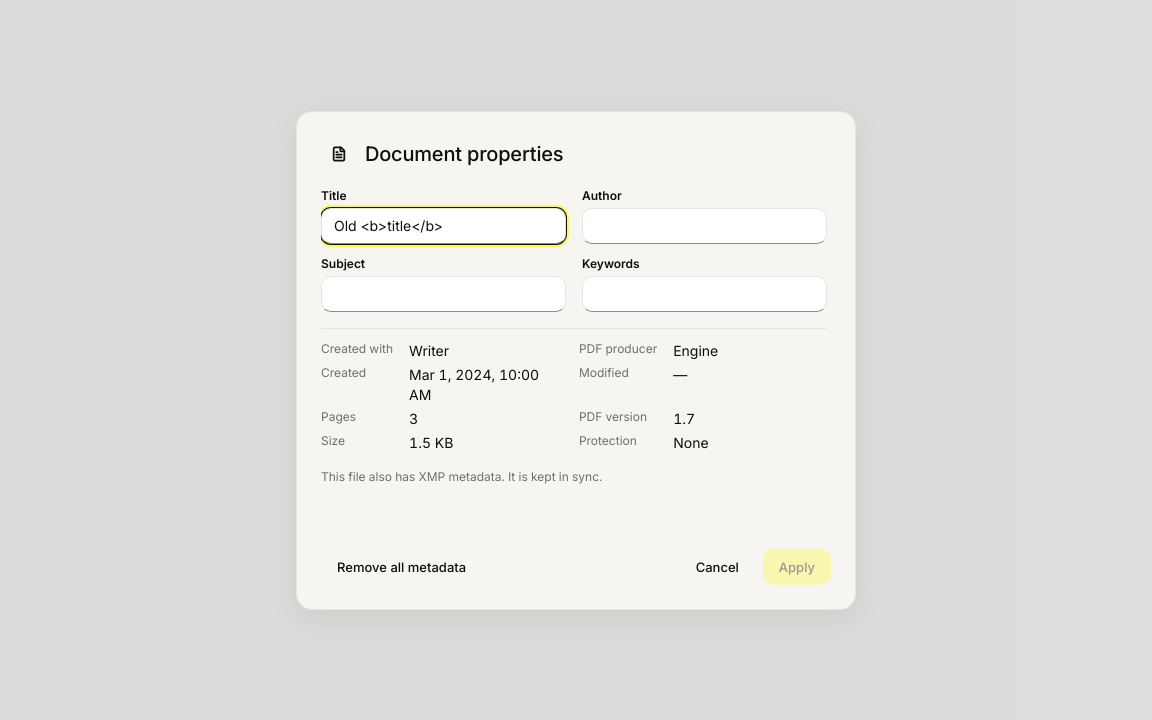
Test: the Document properties dialog › discards on Esc
Expected: the field labelled "Title" is not empty, [321,208,566,244]
Click the button "Remove all metadata": (402, 566) [321,548,482,584]
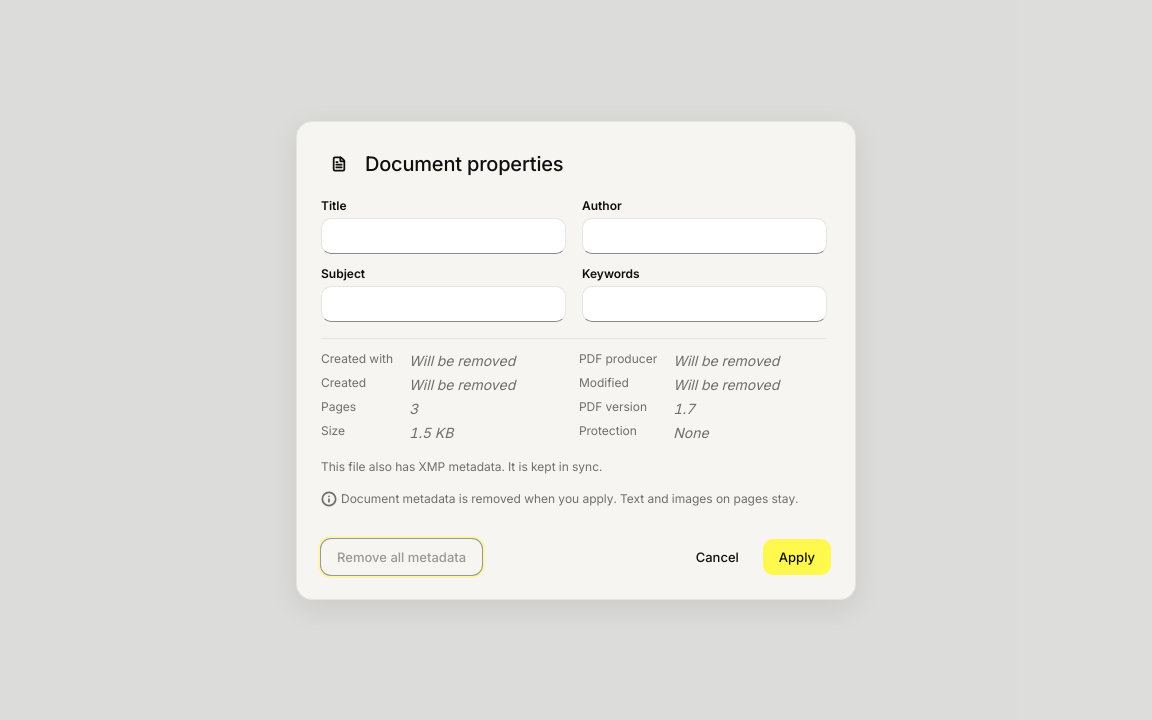
Press Escape
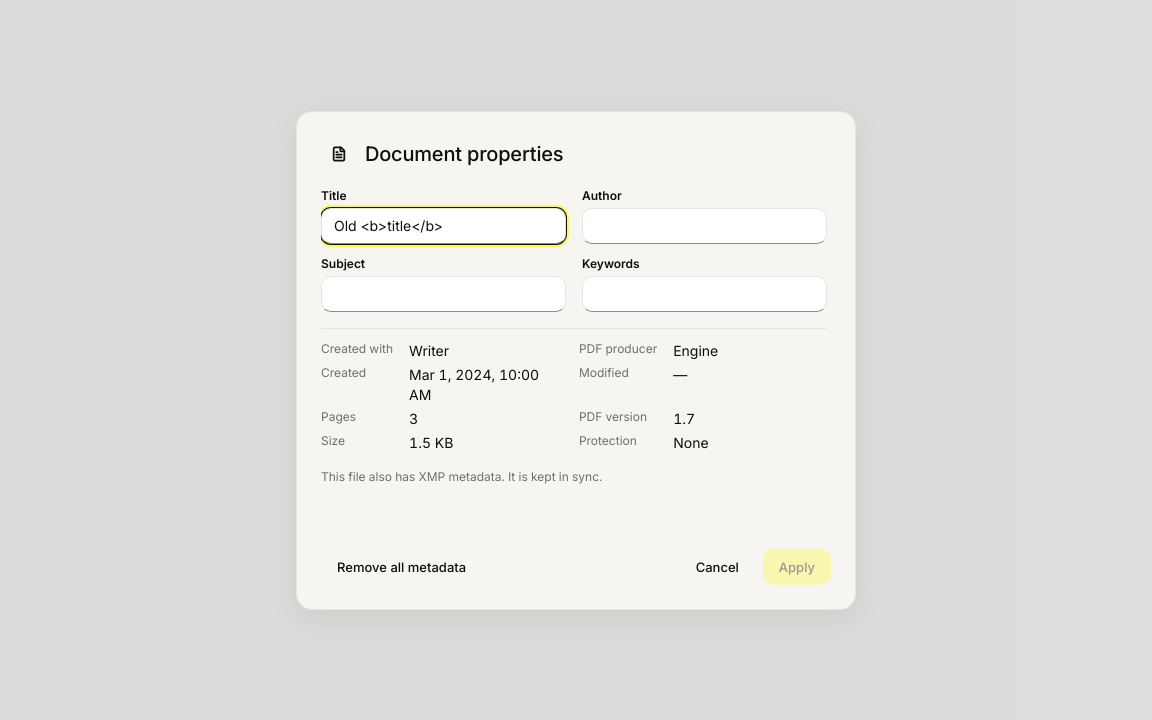
Now the field labelled "Title" holds "Old <b>title</b>", box [321,208,566,244]
